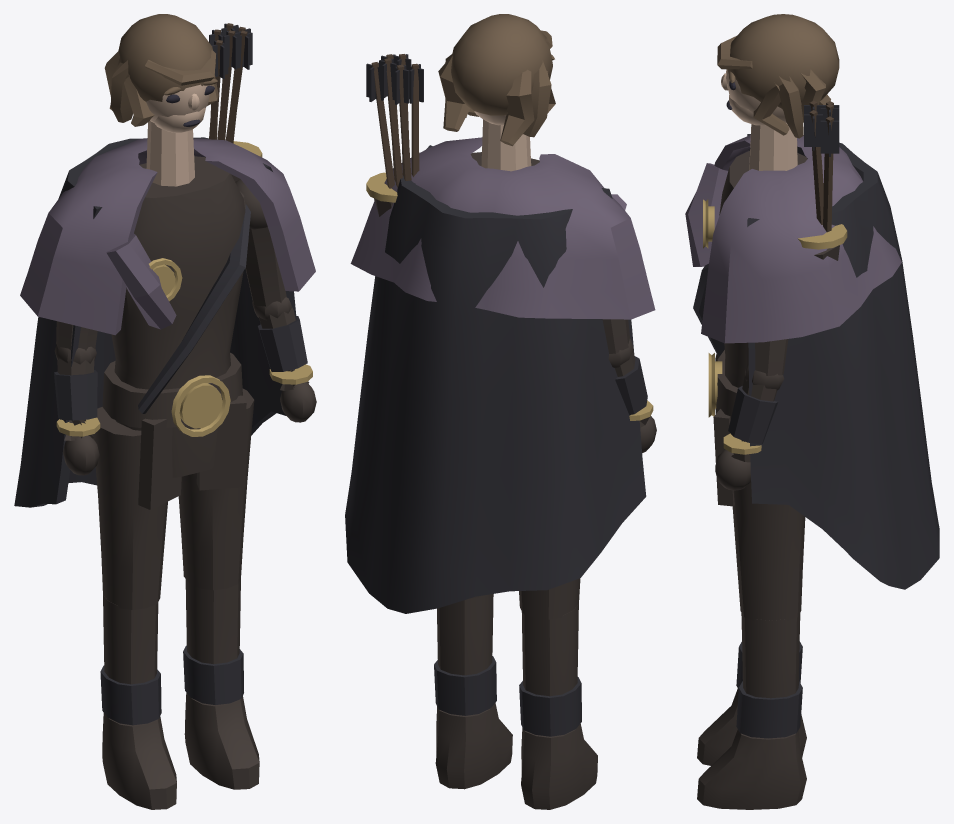
Rendered from archer.glb.
The picture shows the model from 3 angles, left to right: view 1: azimuth 30°, elevation 25°; view 2: azimuth 150°, elevation 25°; view 3: azimuth 270°, elevation 25°; orthographic projection. The views are drawn at different scales.
Visible parts, largest first — view 1: Torso, Cape, Pelvis, ShinL, ShinR, Head, LegL, LegR, ForearmL, ForearmR, ArmR, ArmL; view 2: Cape, Torso, ShinL, ShinR, Head, ForearmL, LegL, ArmL; view 3: Cape, Torso, ShinR, Head, LegR, ForearmR, Pelvis, ShinL, ArmR.
Boxes of the visible parts, x1=… form: Torso: x1=20, y1=23, x2=315, y2=413; Cape: x1=14, y1=137, x2=296, y2=507; Pelvis: x1=102, y1=352, x2=246, y2=509; ShinL: x1=100, y1=595, x2=176, y2=809; ShinR: x1=183, y1=579, x2=259, y2=789; Head: x1=104, y1=14, x2=218, y2=132; LegL: x1=92, y1=407, x2=167, y2=609; LegR: x1=178, y1=388, x2=254, y2=590; ForearmL: x1=54, y1=344, x2=100, y2=475; ForearmR: x1=252, y1=297, x2=316, y2=422; ArmR: x1=235, y1=179, x2=286, y2=307; ArmL: x1=56, y1=321, x2=97, y2=350; Cape: x1=345, y1=145, x2=646, y2=613; Torso: x1=350, y1=54, x2=655, y2=319; ShinL: x1=519, y1=604, x2=597, y2=809; ShinR: x1=434, y1=594, x2=512, y2=789; Head: x1=438, y1=14, x2=555, y2=146; ForearmL: x1=608, y1=339, x2=656, y2=452; LegL: x1=519, y1=578, x2=580, y2=619; ArmL: x1=602, y1=319, x2=629, y2=353; Cape: x1=685, y1=134, x2=939, y2=589; Torso: x1=693, y1=100, x2=901, y2=387; ShinR: x1=697, y1=613, x2=806, y2=809; Head: x1=717, y1=14, x2=839, y2=138; LegR: x1=732, y1=482, x2=805, y2=620; ForearmR: x1=715, y1=365, x2=784, y2=490; Pelvis: x1=708, y1=350, x2=737, y2=506; ShinL: x1=697, y1=641, x2=806, y2=765; ArmR: x1=747, y1=339, x2=788, y2=375.
Bounding box in the file's own units: 0.7665 × 2.04 × 0.62.
